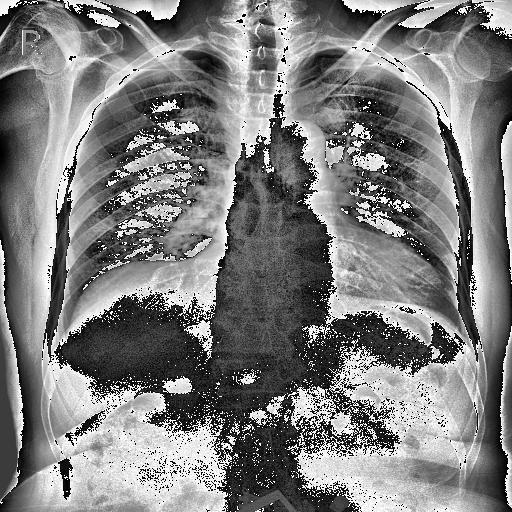0- Aortic enlargement: (252, 120, 324, 178), (274, 118, 332, 178), (268, 118, 326, 170)
11- Pleural thickening: (312, 44, 370, 59), (142, 50, 210, 60)
3- Cardiomegaly: (179, 234, 441, 322), (190, 238, 444, 316), (204, 230, 436, 306)
9- Other lesion: (66, 245, 156, 323)
